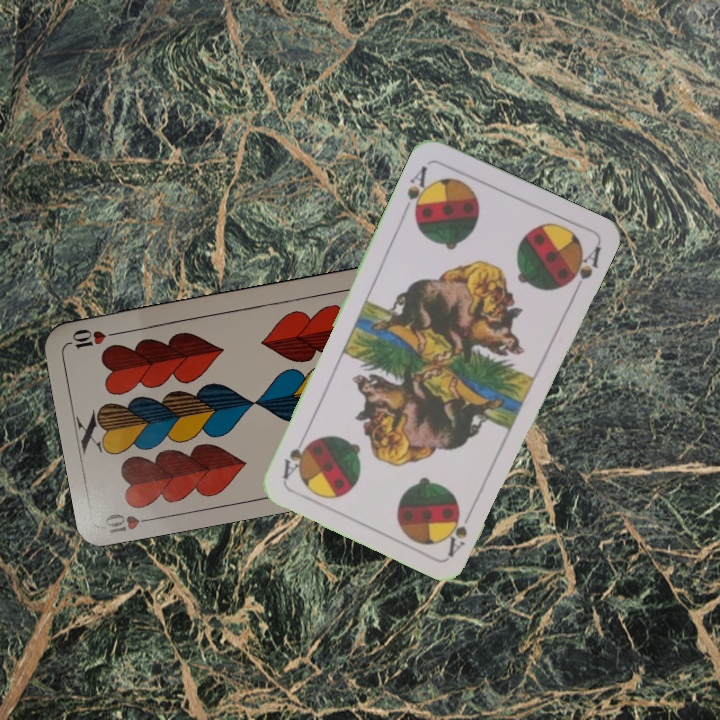H10: (101, 509, 160, 536)
SA: (399, 161, 435, 221), (443, 502, 477, 558)
